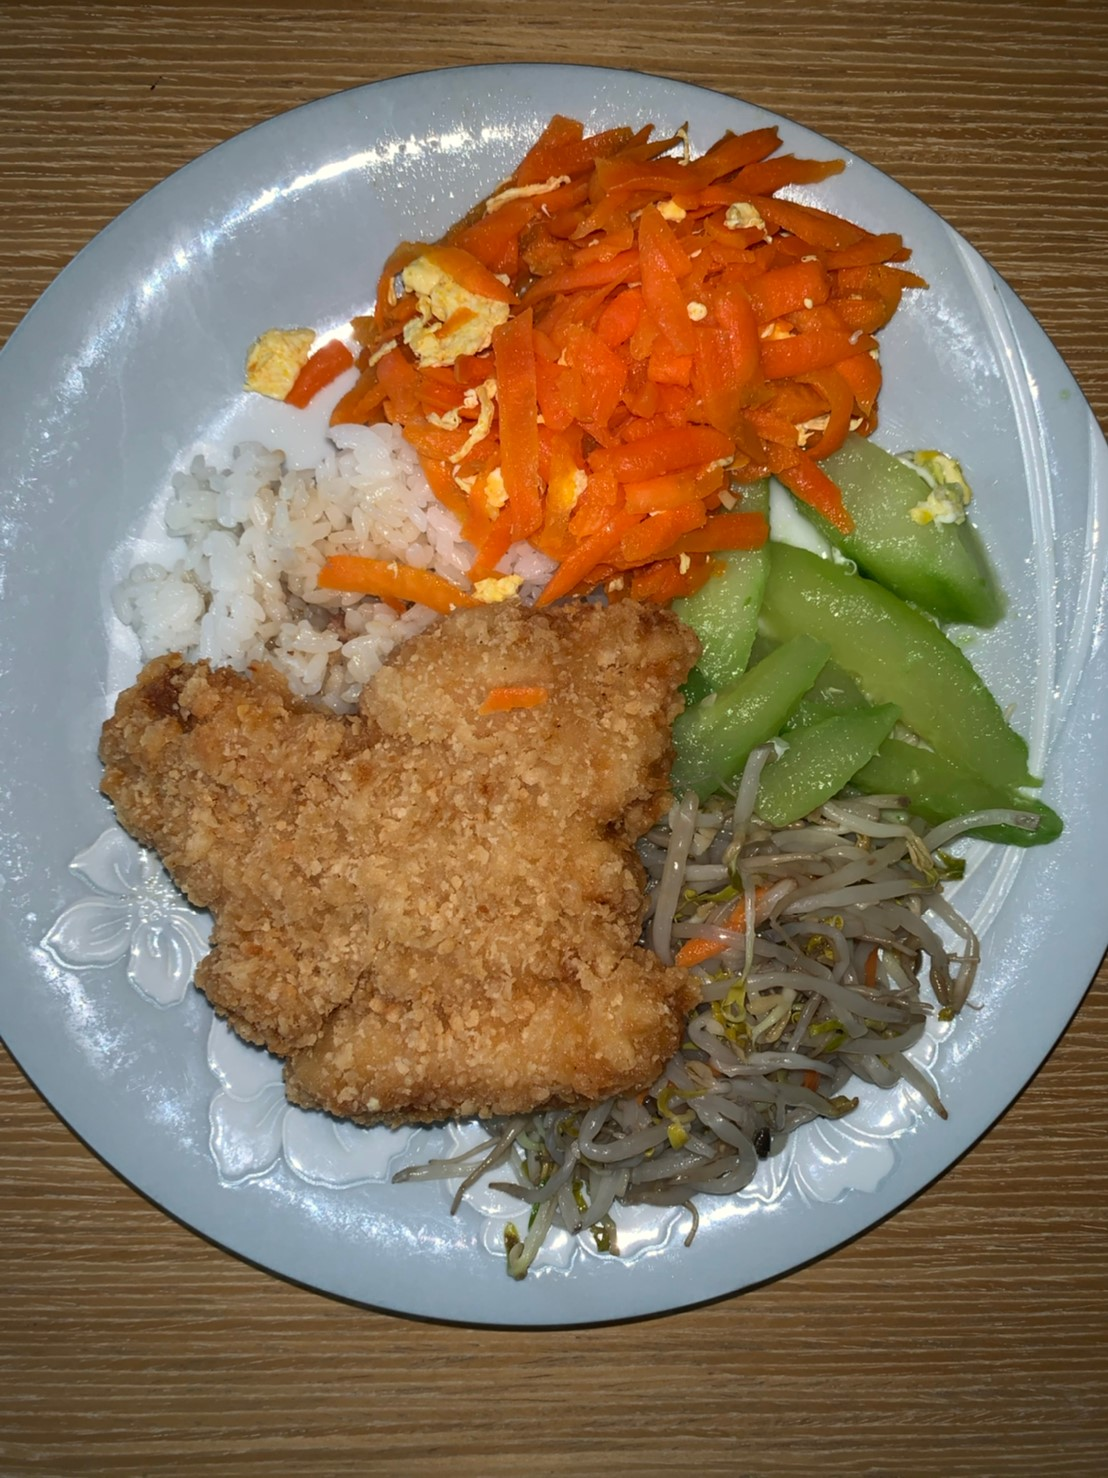carrot_eggs: (353, 132, 881, 584)
fried_chicken: (97, 603, 699, 1128)
mung_bean_sprouts: (651, 800, 943, 1191)
rice: (116, 454, 445, 691)
